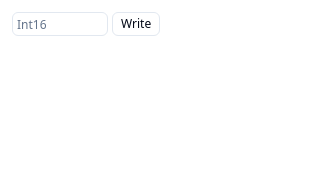
WriteControl › shows permission denied on 403 without the generic error
Type "42" into the number field named "Value for speed" at (60, 24), box [12,12,108,36]
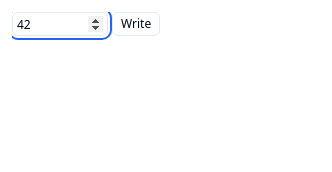
Click the button "Write" at (136, 24), box [112,12,160,36]
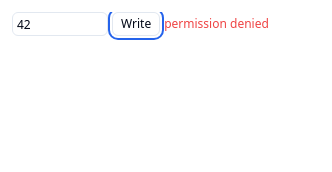
Now the text "permission denied" is shown, box [164,16,269,32]
